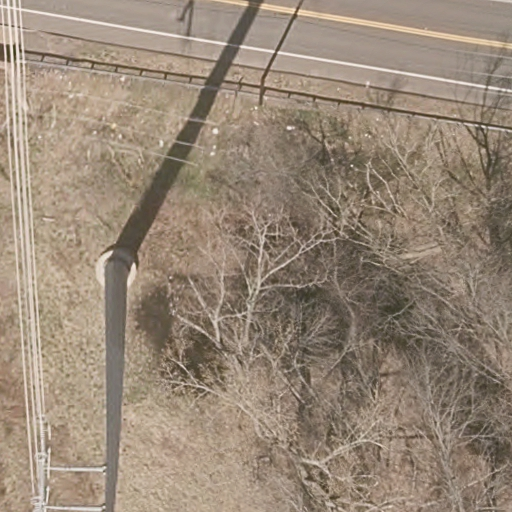TT: (30, 245, 137, 512), (175, 75, 245, 173)
